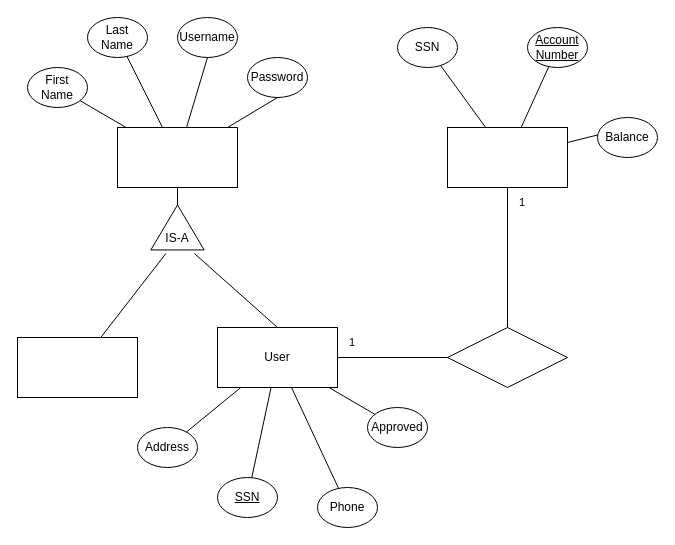
Image size: 675x545. Some labels were removed from this diagram. Each missing label, with the box of its shape:
Account: (446, 126, 568, 188)
Admin: (16, 336, 138, 398)
Creates: (446, 326, 568, 388)
Person: (116, 126, 238, 188)
